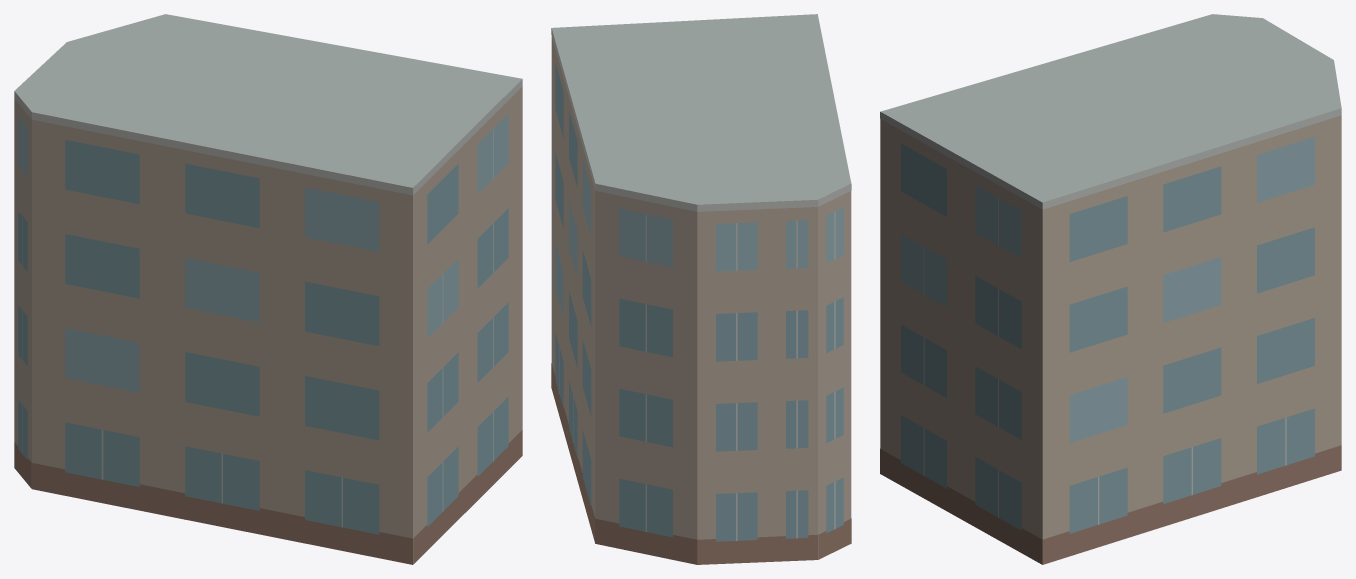
File: survey-upis-32915157.glb
3 views of the same model, side by side, from view 1: azimuth 30°, elevation 25°; view 2: azimuth 150°, elevation 25°; view 3: azimuth 270°, elevation 25° (orthographic). The views are drawn at different scales.
Parts seen in each view (by area): view 1: survey-upis-32915157.tmp; view 2: survey-upis-32915157.tmp; view 3: survey-upis-32915157.tmp.
Boxes of the visible parts, x1,y1,x2,y2 form: survey-upis-32915157.tmp: [14, 14, 522, 564]; survey-upis-32915157.tmp: [551, 14, 851, 564]; survey-upis-32915157.tmp: [880, 14, 1341, 564].
Bounding box in the file's own units: 13.85 × 12.39 × 14.31.
